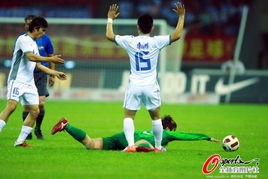falling: (47, 108, 224, 150)
